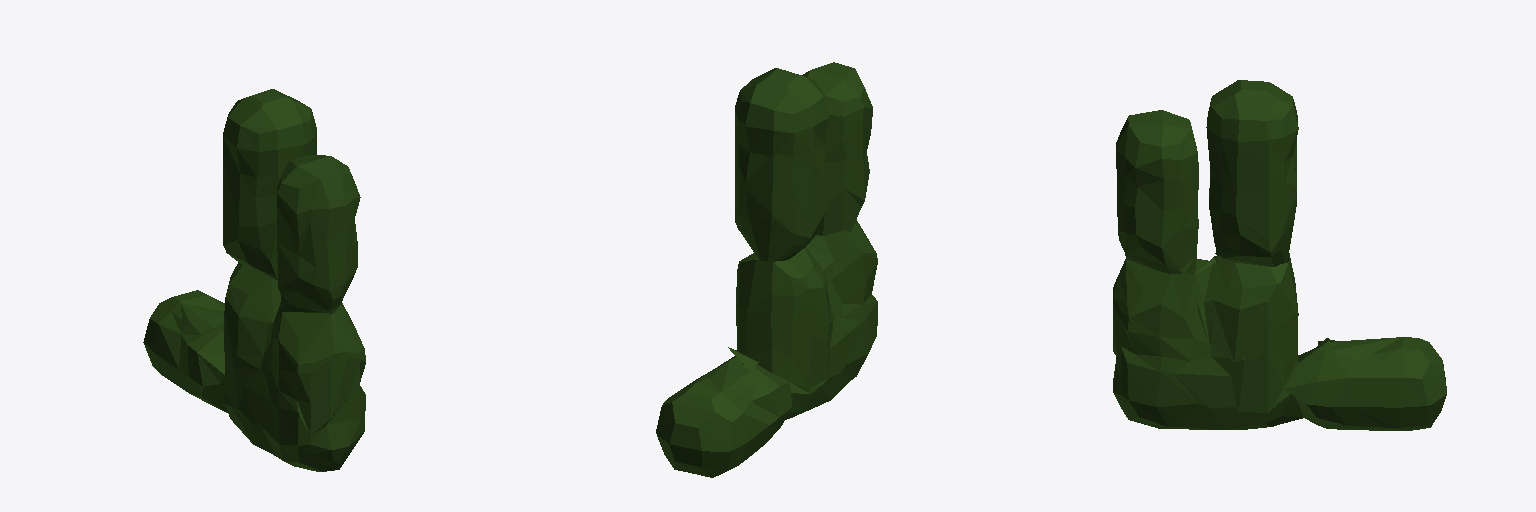
File: lowpolyhand.obj
3 views of the same model, side by side, from view 1: azimuth 30°, elevation 25°; view 2: azimuth 150°, elevation 25°; view 3: azimuth 270°, elevation 25° (orthographic).
Parts seen in each view (by area): view 1: Cube.001; view 2: Cube.001; view 3: Cube.001.
Part boxes in pixels (left/top/right/bottom): Cube.001: left=143, top=89, right=365, bottom=471; Cube.001: left=656, top=62, right=877, bottom=477; Cube.001: left=1113, top=80, right=1446, bottom=430.
Bounding box in the file's own units: 1.97 × 7.99 × 7.09.